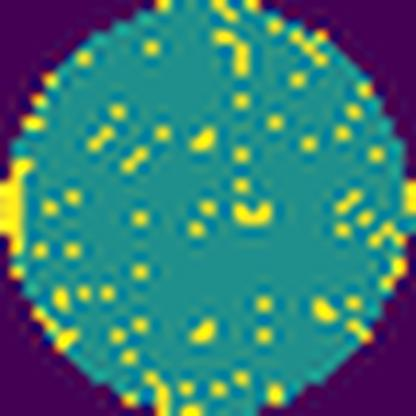Edge-Loc: (0, 152, 34, 262)
